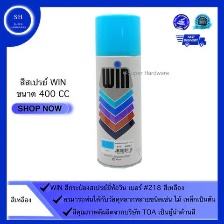aerosol_cans: (92, 11, 144, 171)
